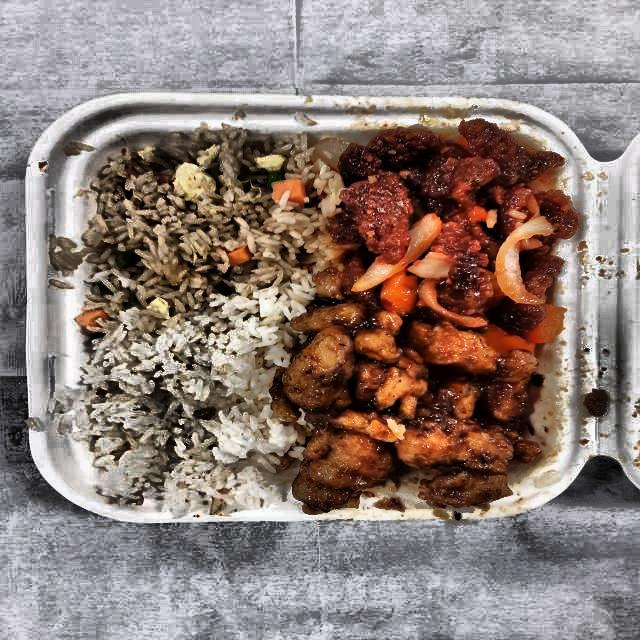Food: (274, 294, 559, 512), (321, 116, 579, 312), (90, 134, 324, 322), (78, 316, 290, 506)
